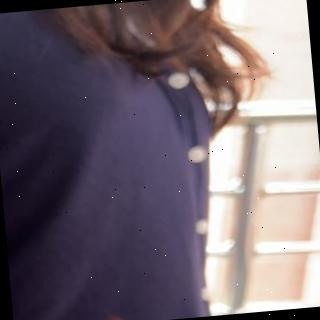fire: (108, 313, 132, 320)
